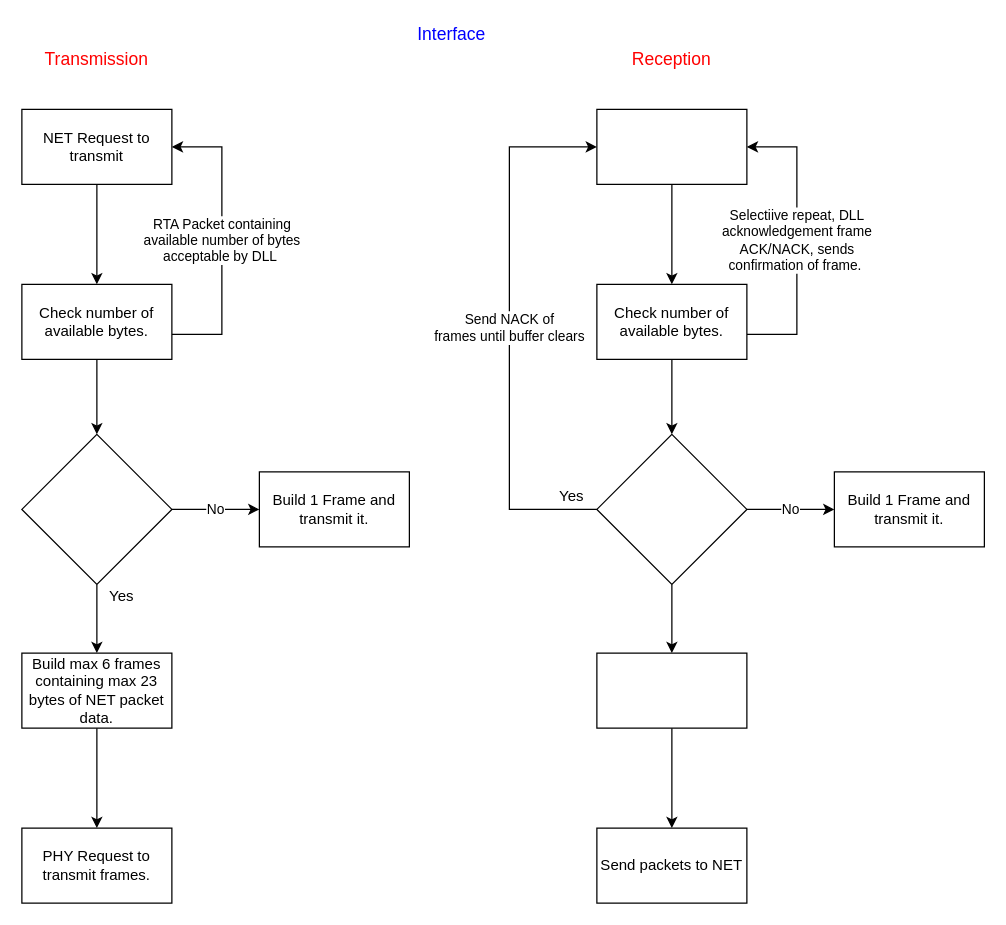
Some shapes in this 1006 by 925 pixel diagram are drawn without their labels. The box of each missing label's shape, as (x1, y1, x2, y2) in pixels:
Deframe the frames and build NET packets.: (596, 652, 747, 728)
Is DLL Frame buffer full?: (596, 433, 747, 584)
Is NET packet > MAX_PKT?: (21, 433, 172, 584)
PHY Indication to receive: (596, 108, 747, 184)
